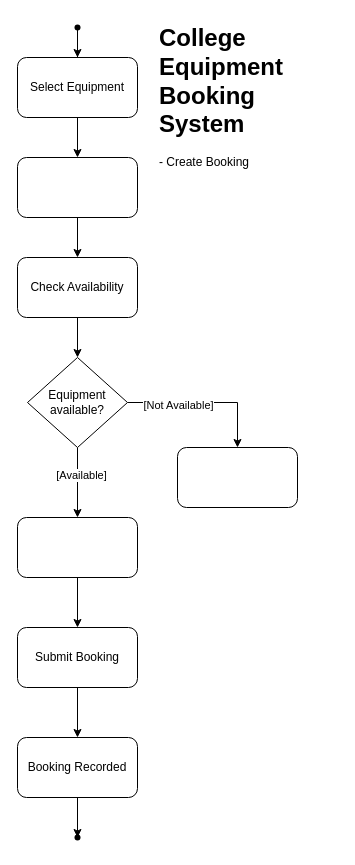
The diagram is 355 pixels wide and 865 high, and some of its shapes have lost their labels. Each missing label, with the centre of its shape:
"Enter Booking Details" belongs at point 77,547.
"Select Date" belongs at point 77,187.
"UNKNOWN What happens if unavailable?" belongs at point 237,477.
